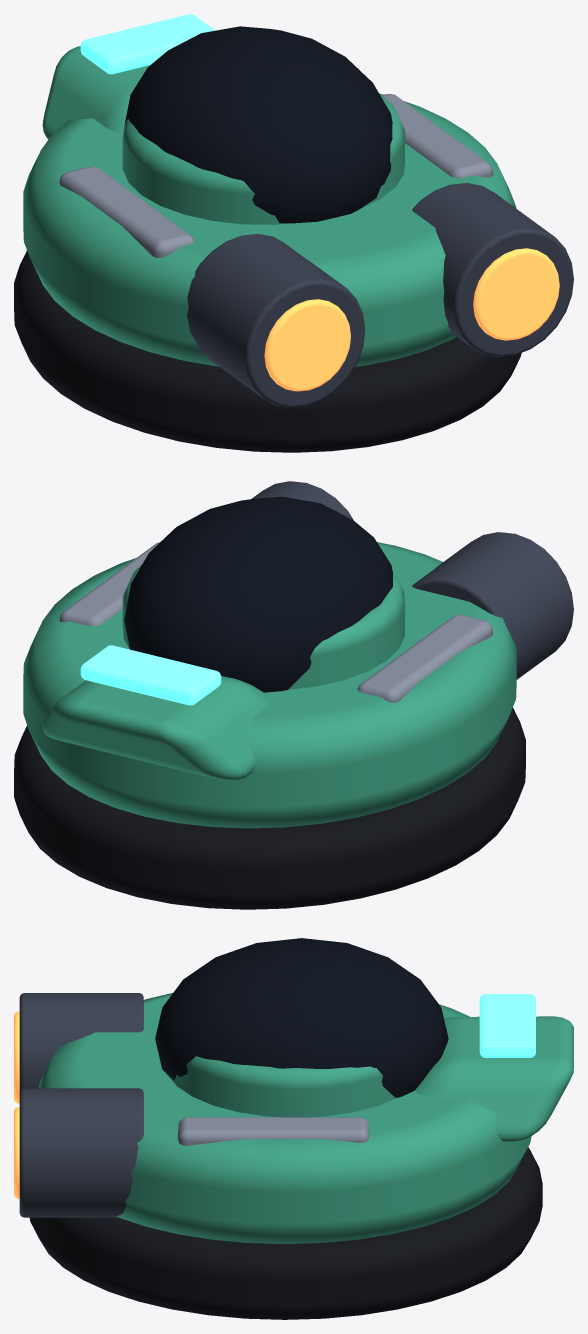
Rendered from robot-2.glb.
3 views of the same model, one above another, from view 1: azimuth 30°, elevation 25°; view 2: azimuth 150°, elevation 25°; view 3: azimuth 270°, elevation 25° (orthographic). The views are drawn at different scales.
Visible parts, largest first — view 1: hull, skirt, screen, nacelle, nacelle.001, collar, nozzle.001, nozzle, prow, strake, lightbar, strake.001; view 2: hull, skirt, screen, prow, nacelle, collar, lightbar, strake, strake.001, nacelle.001; view 3: hull, skirt, screen, nacelle.001, prow, collar, nacelle, strake.001, lightbar, nozzle, nozzle.001.
Boxes of the visible parts, x1,y1,x2,y2 form: hull: [23, 94, 516, 366]; skirt: [14, 250, 521, 452]; screen: [125, 26, 392, 223]; nacelle: [187, 234, 365, 407]; nacelle.001: [412, 183, 573, 356]; collar: [122, 93, 404, 224]; nozzle.001: [473, 248, 559, 340]; nozzle: [264, 299, 350, 391]; prow: [42, 46, 149, 139]; strake: [59, 166, 194, 257]; lightbar: [80, 14, 214, 74]; strake.001: [382, 94, 492, 178]; hull: [23, 542, 516, 828]; skirt: [14, 707, 525, 909]; screen: [124, 496, 392, 692]; prow: [42, 676, 269, 780]; nacelle: [412, 532, 573, 679]; collar: [122, 565, 404, 689]; lightbar: [80, 645, 221, 705]; strake: [357, 614, 492, 702]; strake.001: [59, 542, 159, 626]; nacelle.001: [252, 481, 353, 520]; hull: [38, 993, 531, 1243]; skirt: [29, 1147, 542, 1319]; screen: [155, 938, 448, 1097]; nacelle.001: [19, 1088, 143, 1217]; prow: [414, 1016, 573, 1141]; collar: [167, 1056, 396, 1117]; nacelle: [19, 993, 143, 1091]; strake.001: [177, 1117, 368, 1145]; lightbar: [479, 994, 535, 1057]; nozzle: [14, 1011, 19, 1103]; nozzle.001: [14, 1107, 19, 1198].
Bounding box in the file's own units: 0.83 × 0.5475 × 0.9921.
